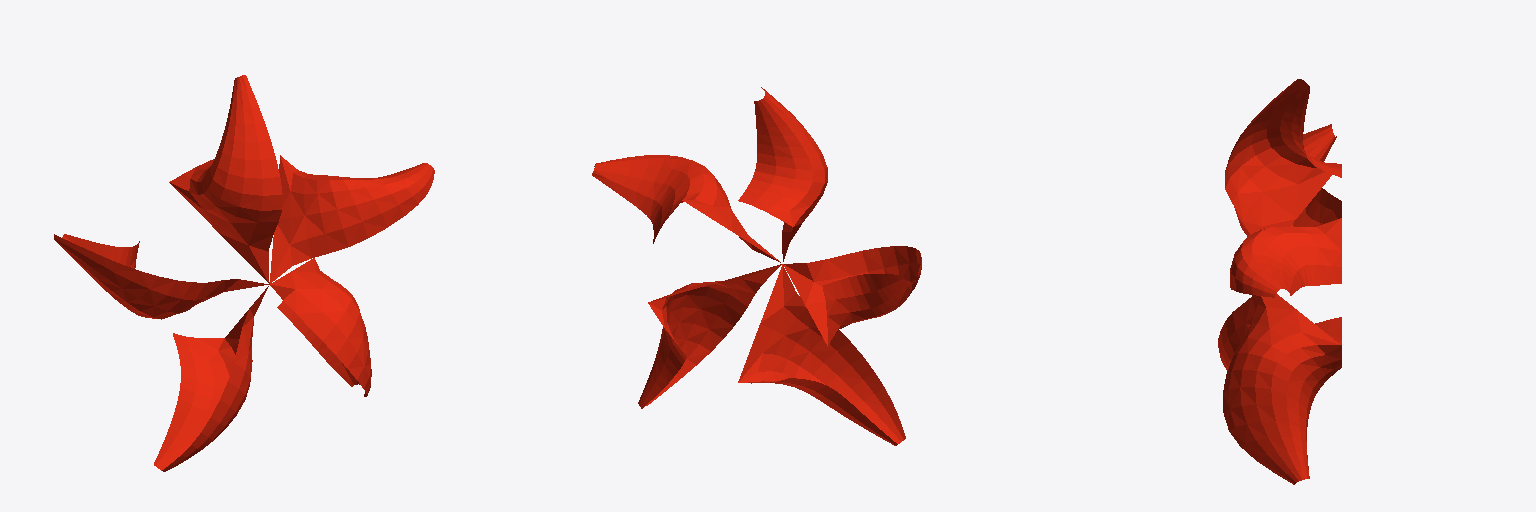
File: BuffoonHeadRed.obj
The picture shows the model from 3 angles: view 1: azimuth 30°, elevation 25°; view 2: azimuth 150°, elevation 25°; view 3: azimuth 270°, elevation 25°; orthographic projection.
Visible parts, largest first — view 1: BuffoonHead; view 2: BuffoonHead; view 3: BuffoonHead.
Boxes of the visible parts, <box> form: BuffoonHead: <box>54,75,434,471</box>; BuffoonHead: <box>592,87,921,445</box>; BuffoonHead: <box>1218,79,1341,484</box>.
Size of the model in its own units: 0.2817 by 0.2679 by 0.0853.